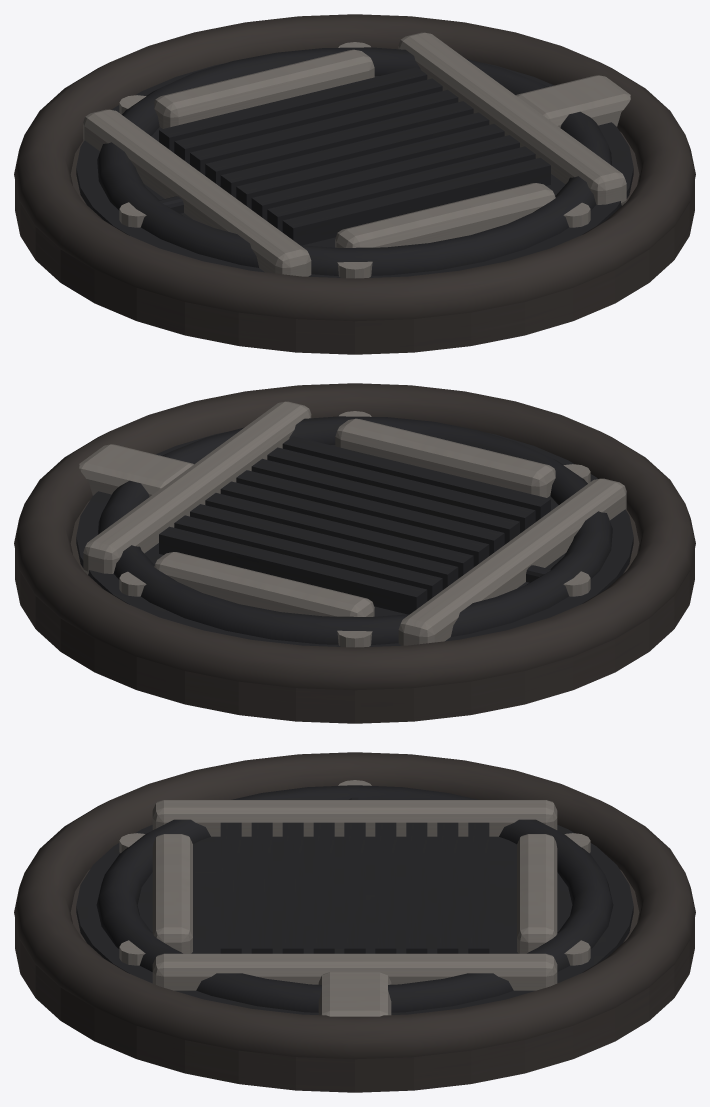
File: prop_manhole_cover.glb
The picture shows the model from 3 angles, top to bottom: view 1: azimuth 30°, elevation 25°; view 2: azimuth 150°, elevation 25°; view 3: azimuth 270°, elevation 25°; orthographic projection.
Parts seen in each view (by area): view 1: prop_manhole_cover_frame_ring, prop_manhole_cover_frame_plate, prop_manhole_cover_lid_rib, prop_manhole_cover_bezel_l, prop_manhole_cover_bezel_r, prop_manhole_cover_bezel_b, prop_manhole_cover_lid, prop_manhole_cover_slots_bar0, prop_manhole_cover_bezel_f, prop_manhole_cover_slots_bar4, prop_manhole_cover_slots_bar2, prop_manhole_cover_slots_bar6 (+7 smaller); view 2: prop_manhole_cover_frame_ring, prop_manhole_cover_frame_plate, prop_manhole_cover_lid_rib, prop_manhole_cover_bezel_l, prop_manhole_cover_bezel_r, prop_manhole_cover_bezel_f, prop_manhole_cover_lid, prop_manhole_cover_slots_bar8, prop_manhole_cover_bezel_b, prop_manhole_cover_slots_bar4, prop_manhole_cover_slots_bar6, prop_manhole_cover_slots_bar2 (+7 smaller); view 3: prop_manhole_cover_frame_ring, prop_manhole_cover_lid, prop_manhole_cover_frame_plate, prop_manhole_cover_lid_rib, prop_manhole_cover_bezel_r, prop_manhole_cover_bezel_l, prop_manhole_cover_bezel_f, prop_manhole_cover_bezel_b, prop_manhole_cover_hinge_lug, prop_manhole_cover_slots_bar4, prop_manhole_cover_slots_bar0, prop_manhole_cover_slots_bar1 (+6 smaller).
Part boxes in pixels (left/top/right/bottom): prop_manhole_cover_frame_ring: left=14, top=14, right=695, bottom=321; prop_manhole_cover_frame_plate: left=15, top=131, right=694, bottom=354; prop_manhole_cover_lid_rib: left=97, top=47, right=612, bottom=275; prop_manhole_cover_bezel_l: left=83, top=109, right=311, bottom=276; prop_manhole_cover_bezel_r: left=398, top=32, right=626, bottom=205; prop_manhole_cover_bezel_b: left=154, top=49, right=374, bottom=128; prop_manhole_cover_lid: left=76, top=62, right=633, bottom=277; prop_manhole_cover_slots_bar0: left=282, top=157, right=550, bottom=245; prop_manhole_cover_bezel_f: left=335, top=183, right=555, bottom=247; prop_manhole_cover_slots_bar4: left=220, top=112, right=489, bottom=198; prop_manhole_cover_slots_bar2: left=251, top=135, right=519, bottom=220; prop_manhole_cover_slots_bar6: left=190, top=89, right=458, bottom=175; prop_manhole_cover_frame_ring: left=14, top=383, right=695, bottom=690; prop_manhole_cover_frame_plate: left=15, top=500, right=694, bottom=723; prop_manhole_cover_lid_rib: left=97, top=416, right=612, bottom=644; prop_manhole_cover_bezel_l: left=398, top=478, right=626, bottom=645; prop_manhole_cover_bezel_r: left=83, top=401, right=311, bottom=574; prop_manhole_cover_bezel_f: left=335, top=418, right=555, bottom=497; prop_manhole_cover_lid: left=76, top=431, right=633, bottom=646; prop_manhole_cover_slots_bar8: left=159, top=526, right=427, bottom=614; prop_manhole_cover_bezel_b: left=154, top=552, right=374, bottom=616; prop_manhole_cover_slots_bar4: left=220, top=481, right=489, bottom=567; prop_manhole_cover_slots_bar6: left=190, top=504, right=458, bottom=589; prop_manhole_cover_slots_bar2: left=251, top=458, right=519, bottom=544; prop_manhole_cover_frame_ring: left=14, top=752, right=695, bottom=1059; prop_manhole_cover_lid: left=76, top=825, right=633, bottom=1014; prop_manhole_cover_frame_plate: left=15, top=869, right=694, bottom=1092; prop_manhole_cover_lid_rib: left=96, top=785, right=613, bottom=1012; prop_manhole_cover_bezel_r: left=152, top=953, right=557, bottom=990; prop_manhole_cover_bezel_l: left=152, top=800, right=557, bottom=836; prop_manhole_cover_bezel_f: left=152, top=834, right=192, bottom=953; prop_manhole_cover_bezel_b: left=517, top=834, right=557, bottom=953; prop_manhole_cover_hinge_lug: left=318, top=972, right=391, bottom=1016; prop_manhole_cover_slots_bar4: left=344, top=822, right=365, bottom=953; prop_manhole_cover_slots_bar0: left=220, top=822, right=241, bottom=953; prop_manhole_cover_slots_bar1: left=251, top=822, right=272, bottom=953.
Size of the model in its own units: 0.8428 by 0.093 by 0.8428.
Materials: 3 (3 with a texture image).
